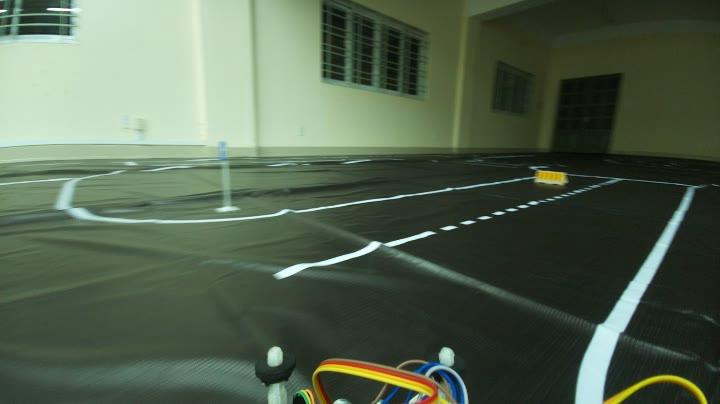onewayroad: (214, 140, 232, 164)
